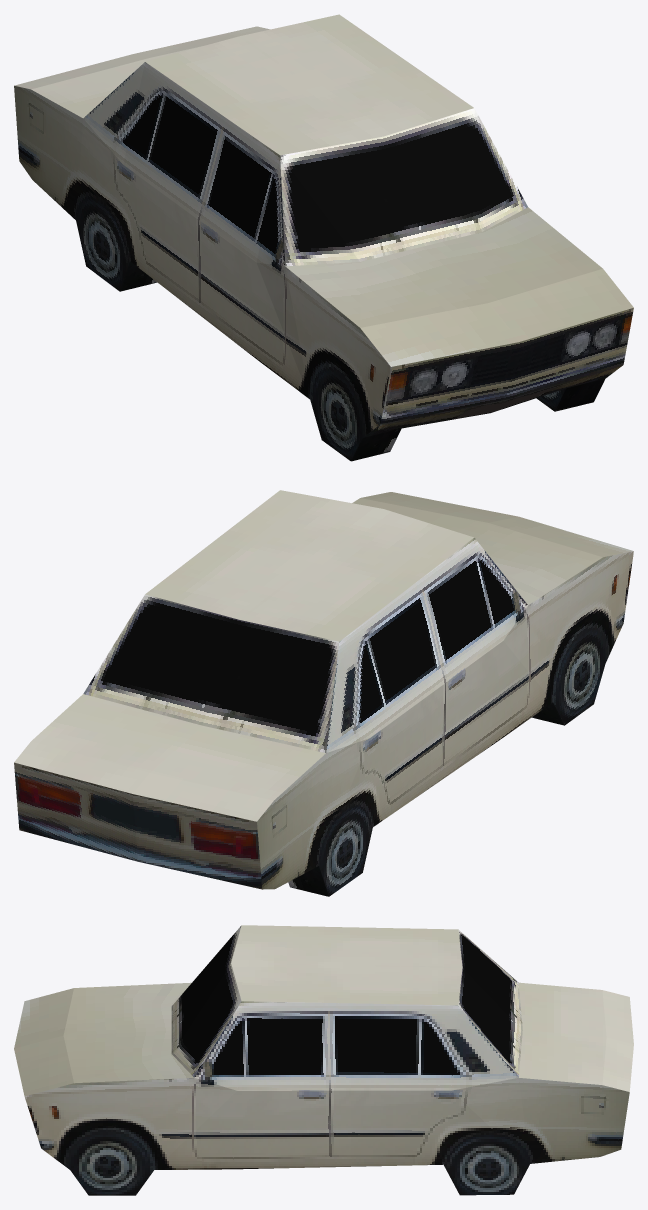
File: car.glb
3 renders of one model, top to bottom at view 1: azimuth 30°, elevation 25°; view 2: azimuth 150°, elevation 25°; view 3: azimuth 270°, elevation 25°, orthographic. The views are drawn at different scales.
Parts seen in each view (by area): view 1: Plane; view 2: Plane; view 3: Plane.
Part boxes in pixels (x1=…): Plane: x1=14, y1=14, x2=633, y2=461; Plane: x1=14, y1=490, x2=633, y2=896; Plane: x1=14, y1=925, x2=633, y2=1195.
Size of the model in its own units: 1.83 by 1.63 by 4.96.
1 material, 1 textured.
